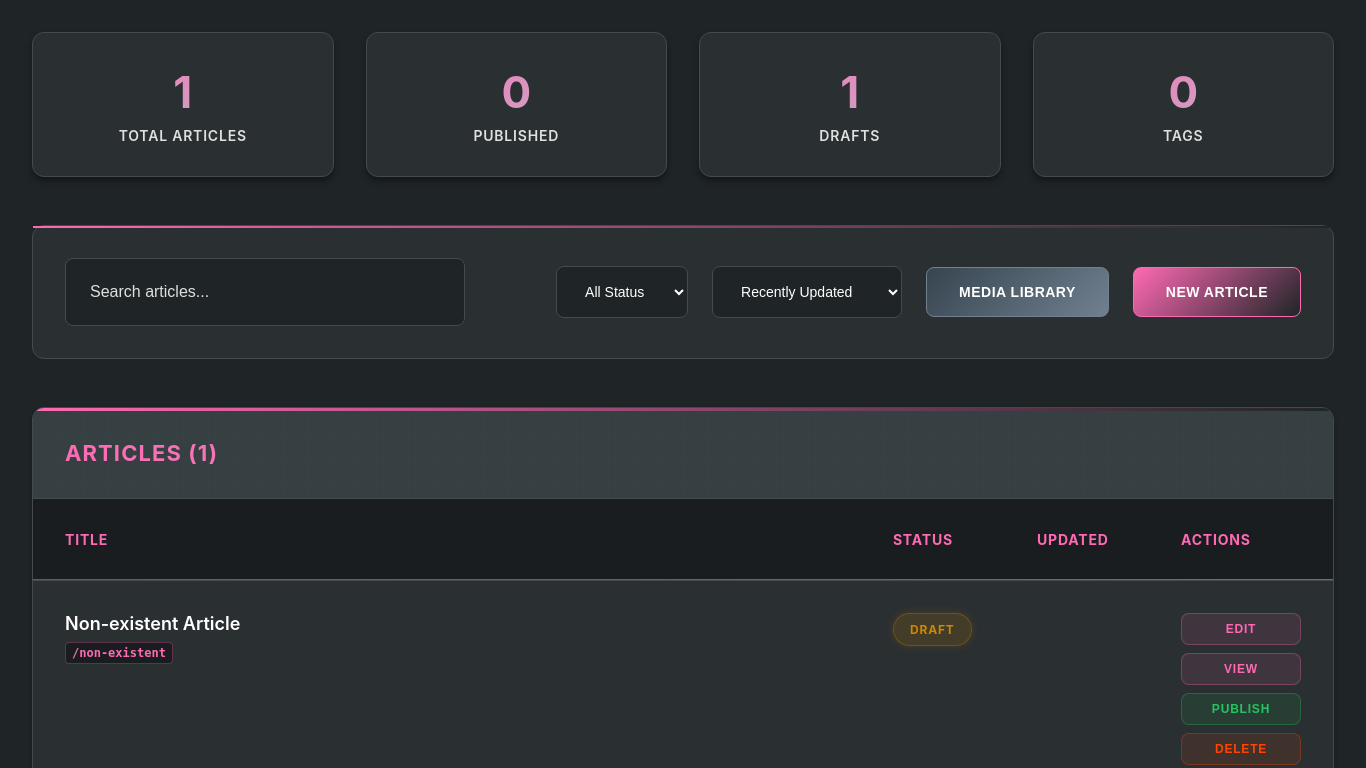
Test: AdminDashboard › getArticleContent › sets error state on failure and returns null
Trigger edit which will fail
Click the button with class "edit-button" at (1241,629), box [1181,613,1301,645]
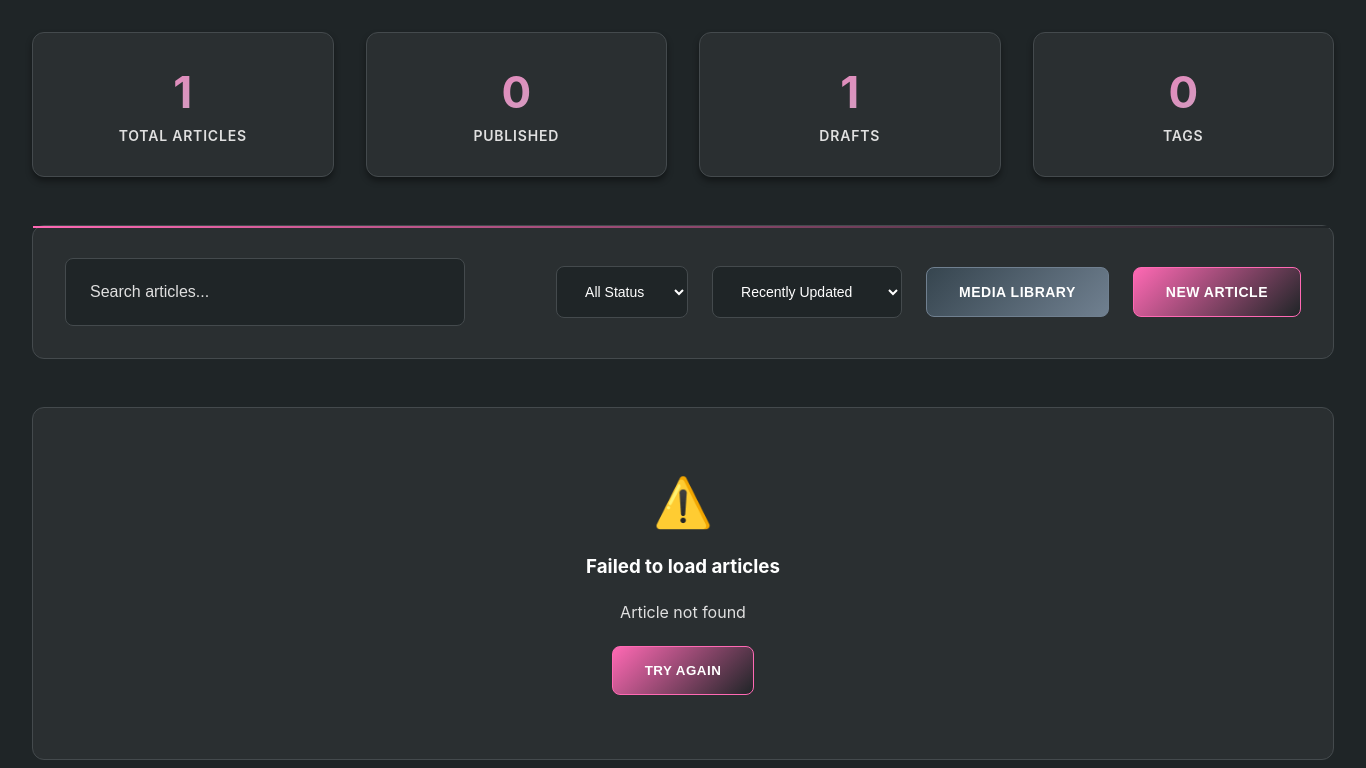
Check: the text "Article not found" is shown, box [620,602,746,622]
